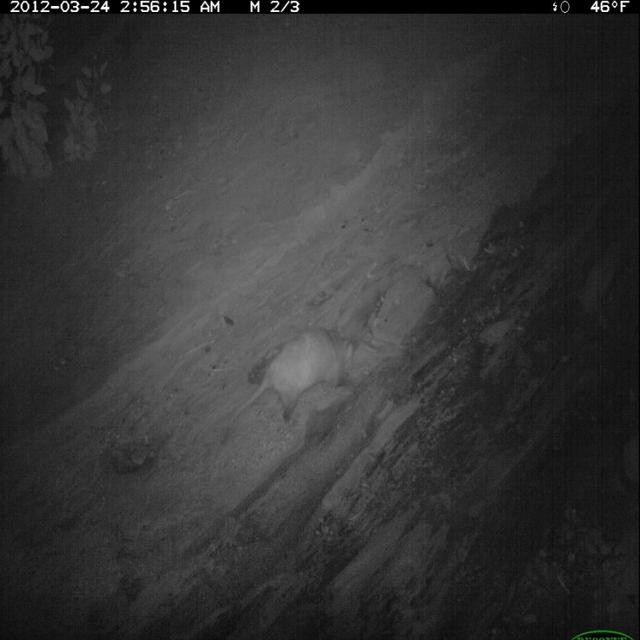opossum: (220, 325, 360, 449)
